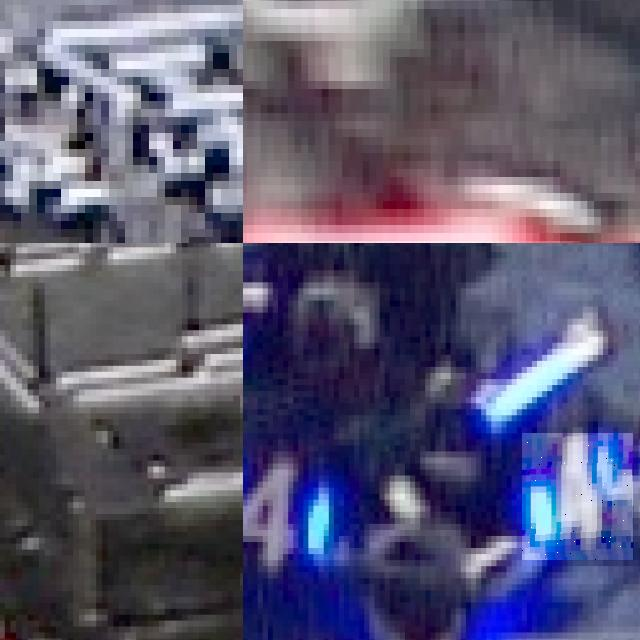B4: (243, 439, 369, 566), (522, 433, 633, 560)
